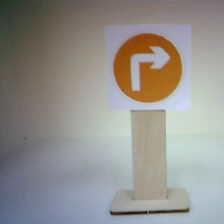right: (104, 25, 190, 109)
